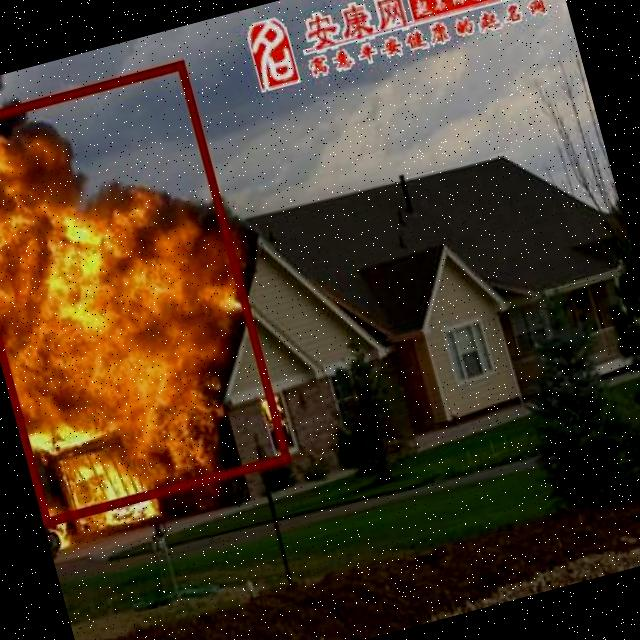fire: (0, 58, 289, 525)
